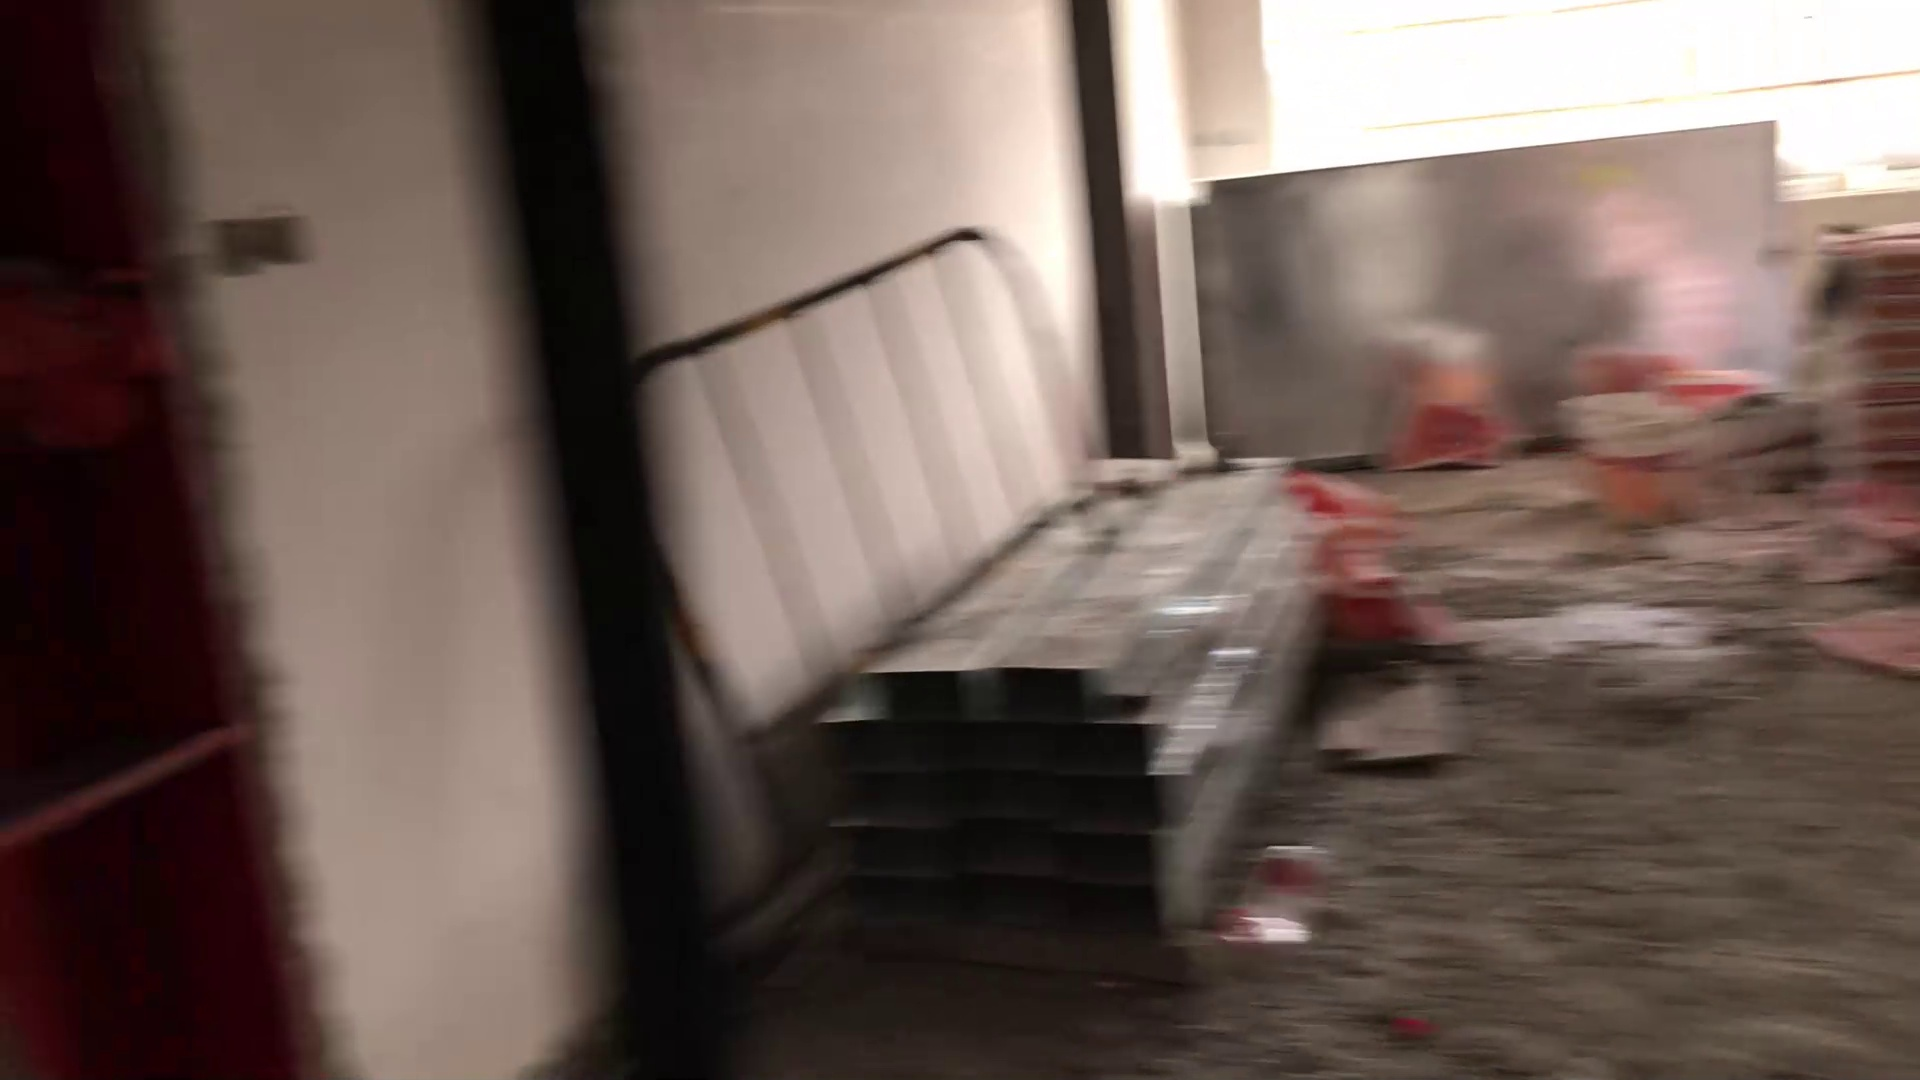fence: (600, 237, 1156, 709)
